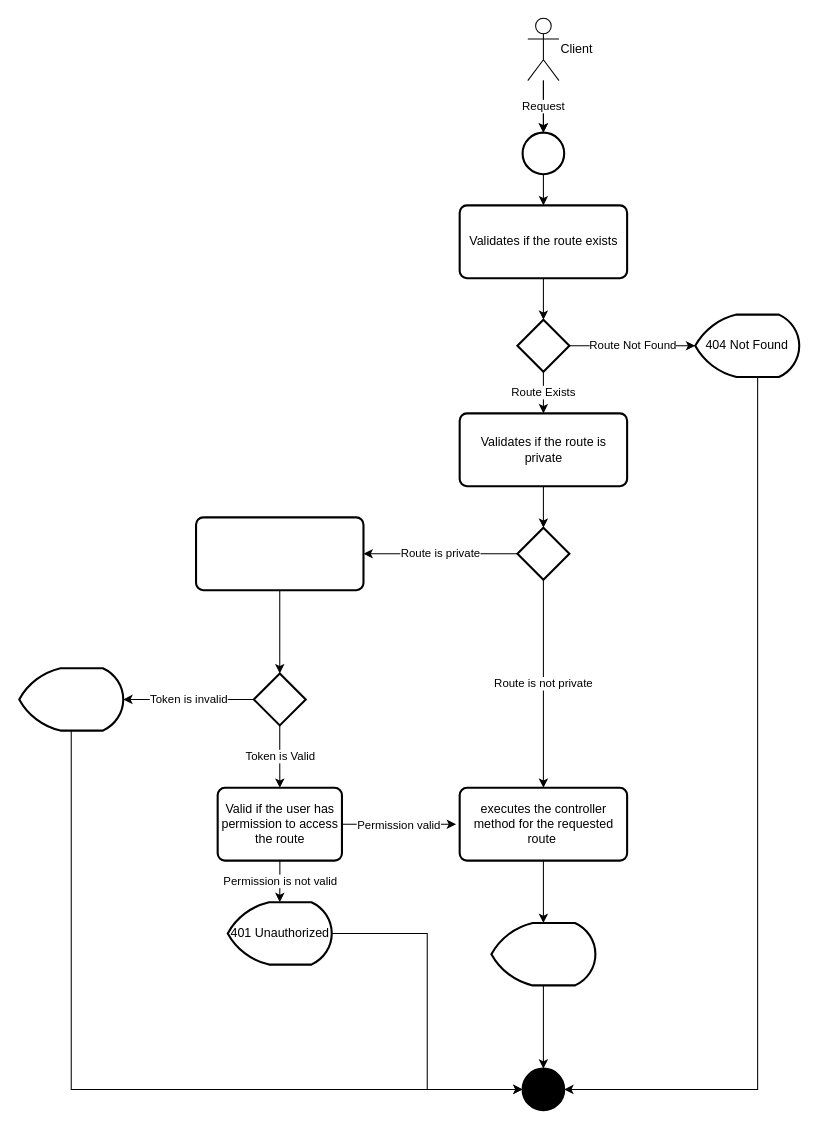
The diagram is 817 pixels wide and 1129 high, and some of its shapes have lost their labels. The centre of each missing label's shape, as x and y in pixels:
"403 Forbidden" belongs at pixel 71 699.
"App" belongs at pixel 543 153.
"Return a Status Code" belongs at pixel 543 953.
"Valid if the request has a token" belongs at pixel 279 553.
